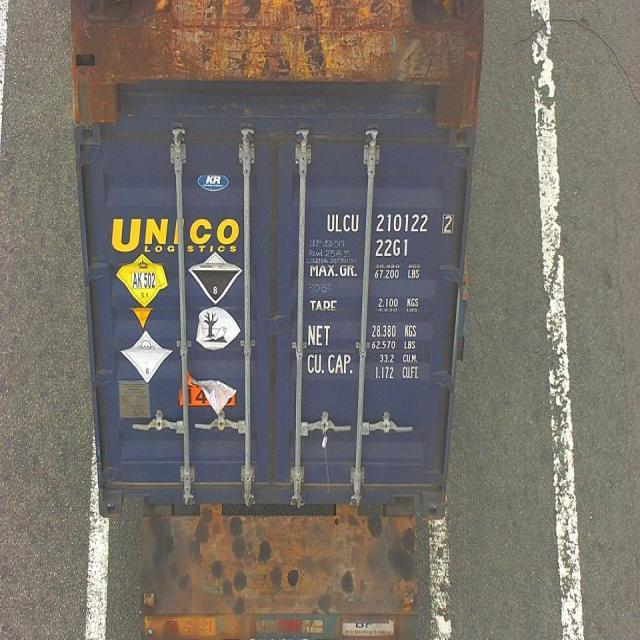ISO: (374, 240, 410, 259)
container_number: (327, 208, 455, 241)
